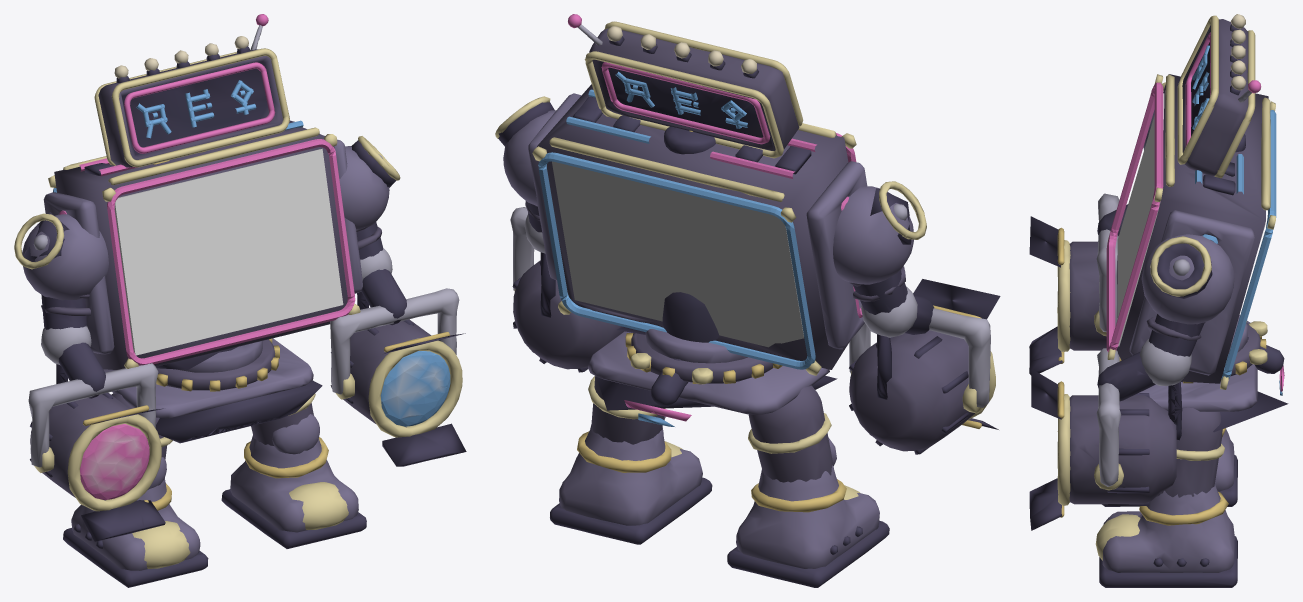
Rendered from boss2.glb.
3 renders of one model, left to right at view 1: azimuth 30°, elevation 25°; view 2: azimuth 150°, elevation 25°; view 3: azimuth 270°, elevation 25°, orthographic. The views are drawn at different scales.
Parts seen in each view (by area): view 1: screen_glow, upper, proj_r, proj_l, head, base, shin_l, arm_r, shin_r, bezel_glow, head_glow, arm_l (+3 smaller); view 2: upper, screen_glow, proj_r, head, shin_r, shin_l, base, bezel_glow, arm_r, proj_l, leg_r, head_glow (+3 smaller); view 3: proj_l, upper, shin_l, proj_r, head, arm_l, bezel_glow, base, leg_l, screen_glow, head_glow, shin_r.
Boxes of the visible parts, x1,y1,x2,y2 form: screen_glow: (114,148,343,355); upper: (43,120,362,372); proj_r: (28,326,165,541); proj_l: (330,248,466,466); head: (94,25,289,167); base: (103,338,322,443); shin_l: (221,435,366,548); arm_r: (14,212,108,329); shin_r: (63,478,208,587); bezel_glow: (53,120,355,365); head_glow: (114,14,275,153); arm_l: (339,136,400,259); upper: (528,84,867,406); screen_glow: (552,161,803,347); proj_r: (849,279,1000,454); head: (578,21,803,158); shin_r: (727,465,889,587); shin_l: (550,425,712,544); base: (588,331,837,414); bezel_glow: (538,89,862,369); arm_r: (833,181,926,314); proj_l: (510,207,623,372); leg_r: (748,385,836,482); head_glow: (568,14,770,144); proj_l: (1029,339,1191,530); upper: (1107,74,1284,389); shin_l: (1095,484,1237,587); proj_r: (1029,193,1128,375); head: (1177,15,1255,178); arm_l: (1141,234,1234,356); bezel_glow: (1106,82,1276,379); base: (1116,320,1288,432); leg_l: (1156,407,1224,497); screen_glow: (1117,93,1265,346); head_glow: (1185,14,1261,146); shin_r: (1102,428,1237,506).
Bounding box in the file's own units: 3.13 × 3.29 × 1.57.
